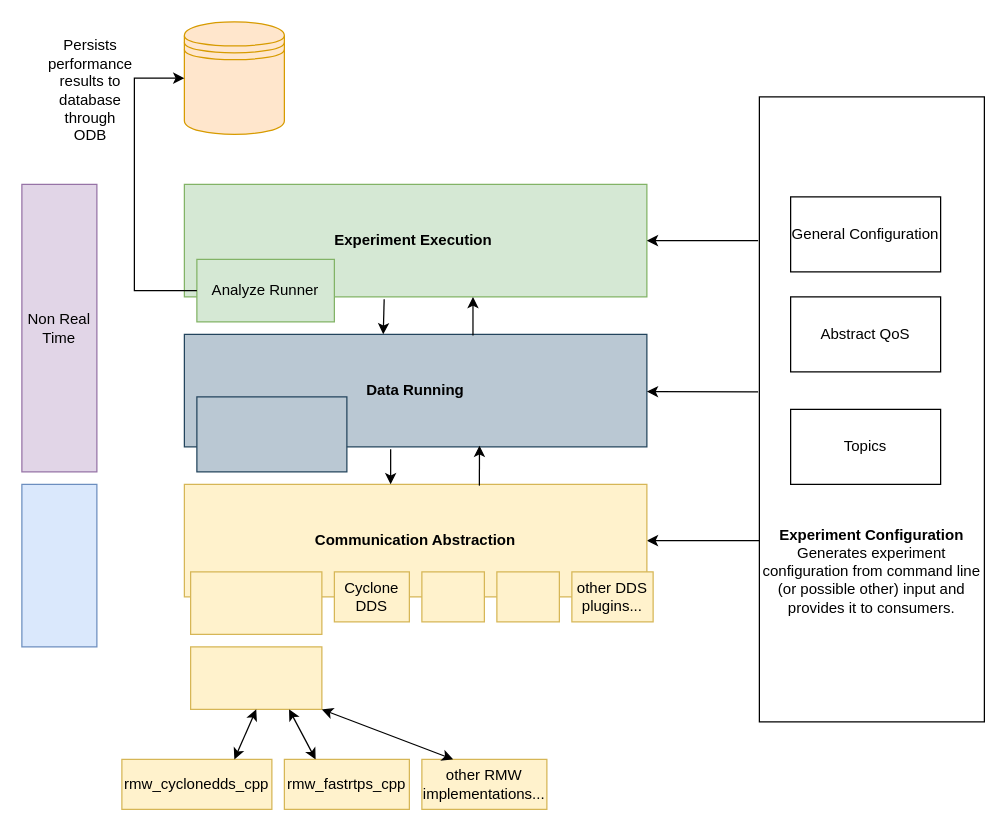
This 1006x831 diagram has some shape labels left out. The centre of each missing label's shape, as x and y in pixels:
"Data Runner (publisher or subscriber instance)" belongs at pixel 271 434.
"Fast DDS" belongs at pixel 452 596.
"Open DDS" belongs at pixel 527 596.
"RCL/RMW" belongs at pixel 255 677.
"RCLCPP" belongs at pixel 255 602.
"Real Time" belongs at pixel 59 565.
"SQL compatible database" belongs at pixel 233 77.
